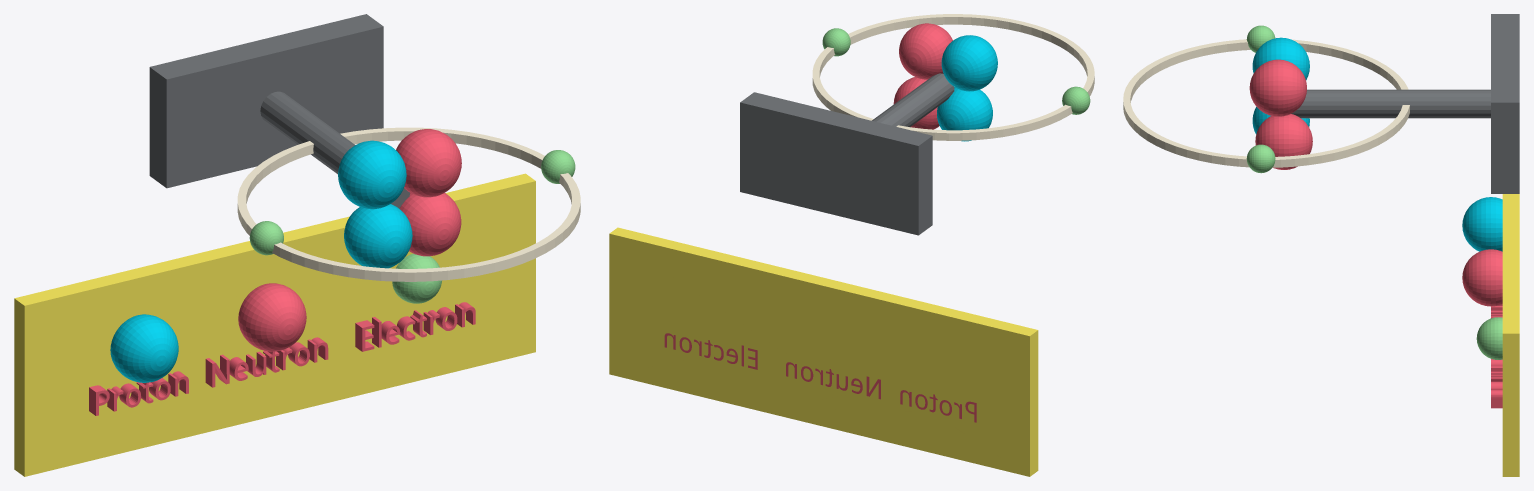
The model's file is heliam.glb.
3 views of the same model, side by side, from view 1: azimuth 30°, elevation 25°; view 2: azimuth 150°, elevation 25°; view 3: azimuth 270°, elevation 25° (orthographic). The views are drawn at different scales.
Visible parts, largest first — view 1: Node1; view 2: Node1; view 3: Node1.
Boxes of the visible parts, x1,y1,x2,y2 form: Node1: [14, 14, 580, 476]; Node1: [609, 14, 1094, 476]; Node1: [1123, 14, 1519, 476].
Bounding box in the file's own units: 172 × 121 × 138.
